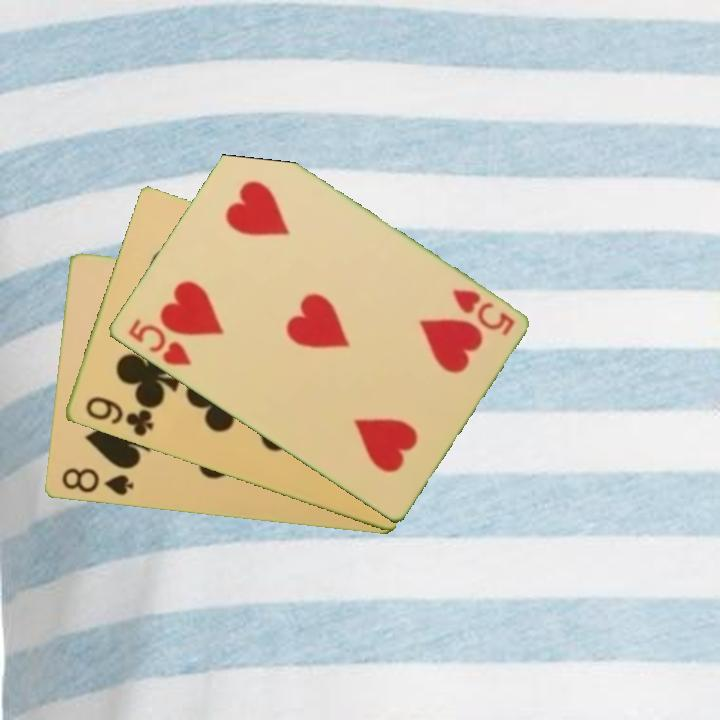5h: (123, 315, 195, 369), (448, 285, 517, 339)
8s: (58, 465, 136, 499)
9c: (81, 393, 156, 440)
